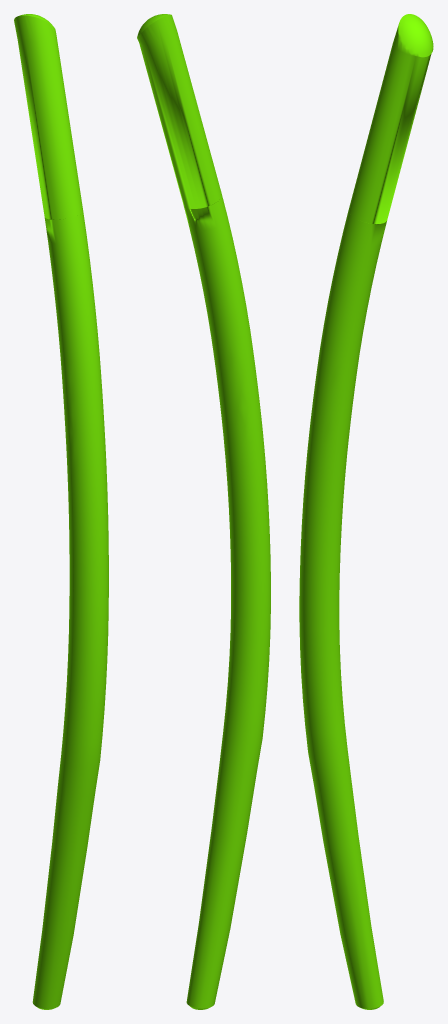
File: chair_027_03.obj
3 renders of one model, left to right at view 1: azimuth 90°, elevation 25°; view 2: azimuth 150°, elevation 25°; view 3: azimuth 330°, elevation 25°, orthographic.
Size of the model in its own units: 93.79 by 873 by 76.84.
